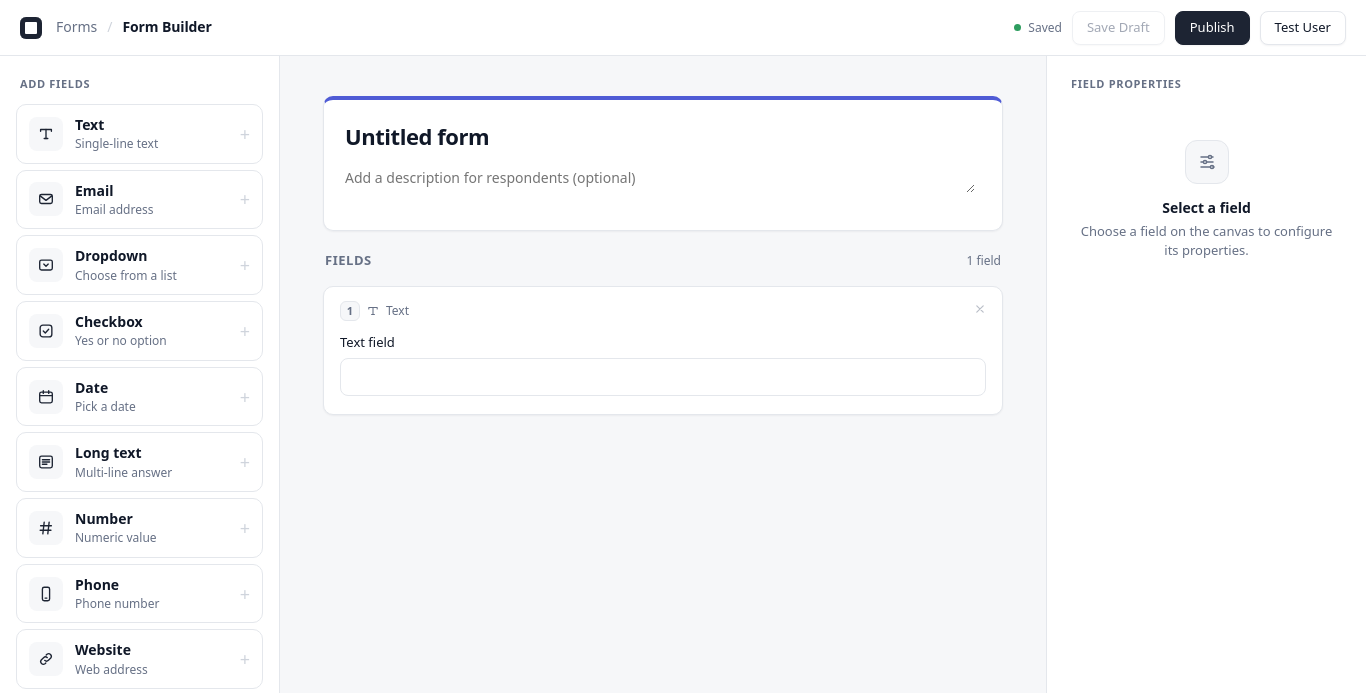
Save Draft › saves the changed schema once, and shows Saved
The width and height of the screenshot is (1366, 693).
Click the button with aria-label "Add Email field": [140, 199] box [16,170,263,229]
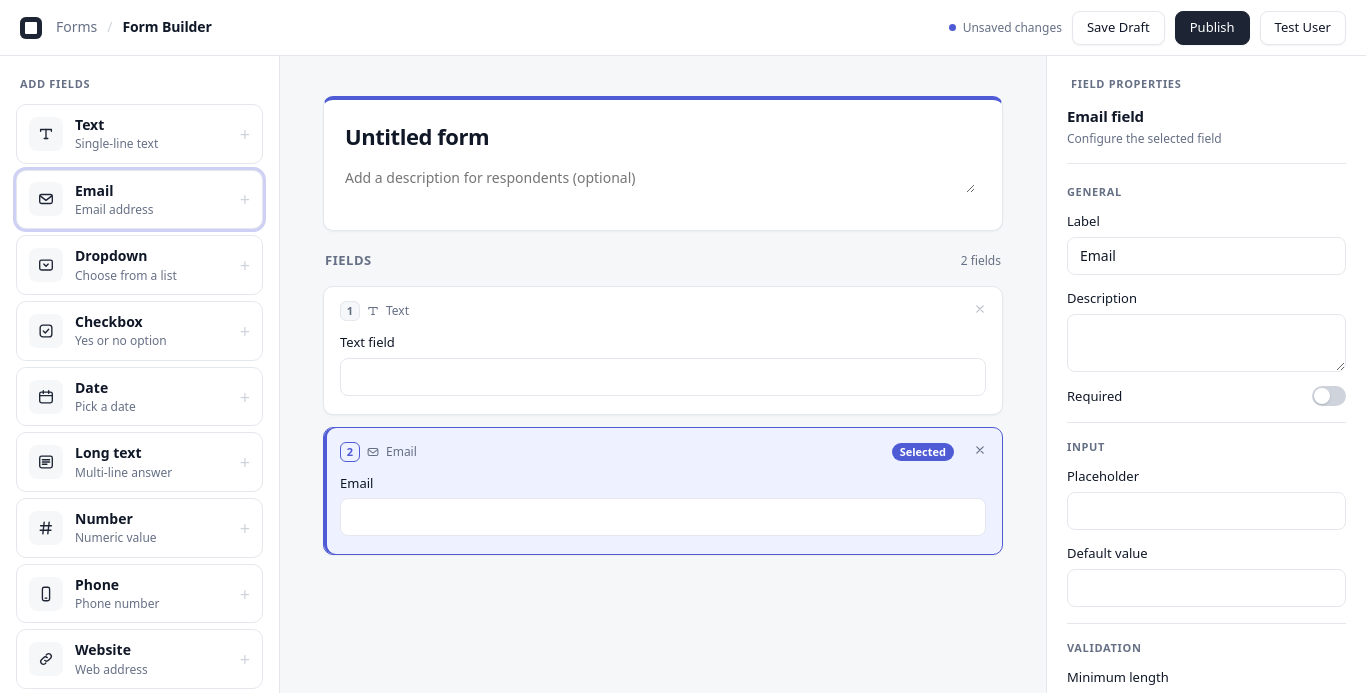
Result: the button "Save Draft" is enabled
Click the button "Save Draft": [1118, 28] box [1072,10,1165,44]
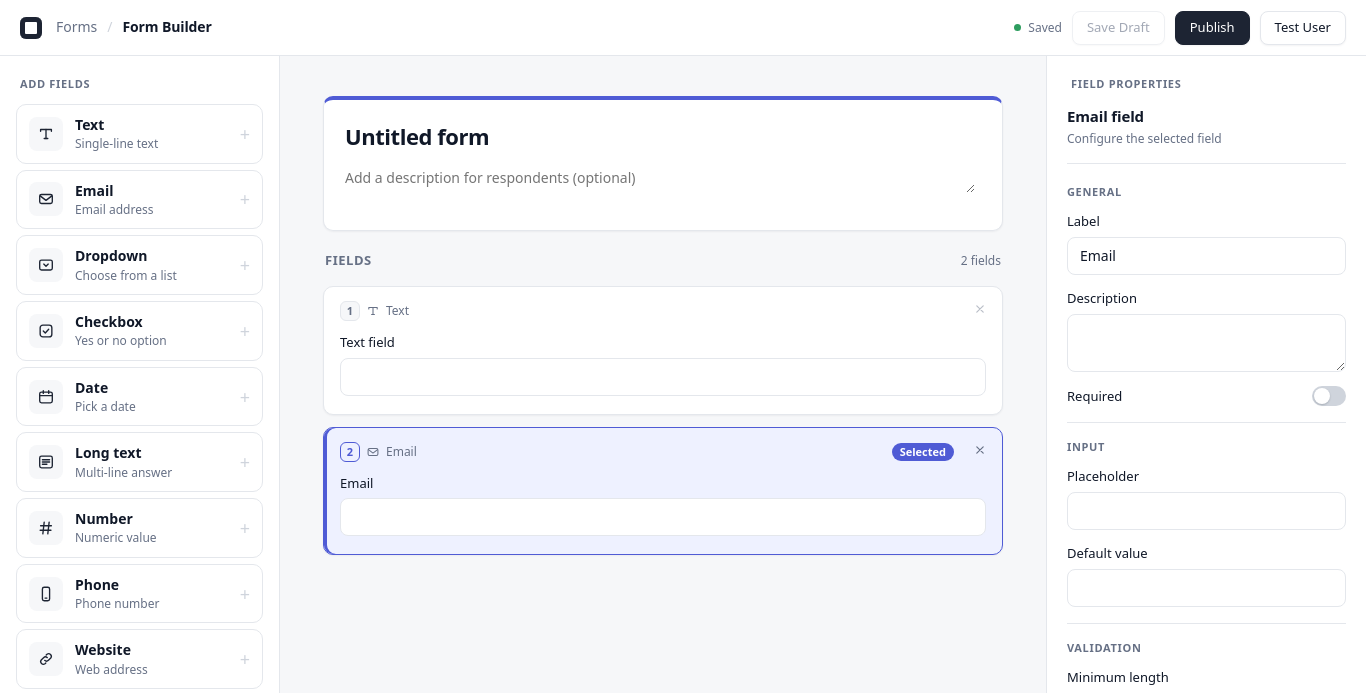
Expected: the text "Saved" is shown, [1028,19,1062,36]
Result: the button "Save Draft" is disabled at [1072,10,1165,44]
